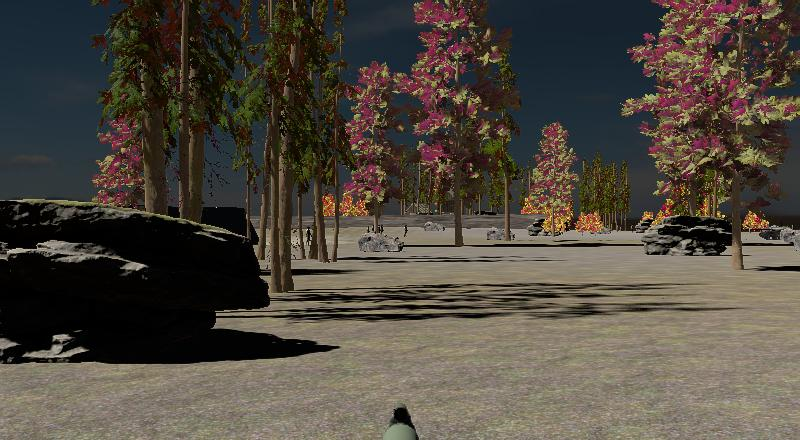Tank: (758, 223, 795, 241)
